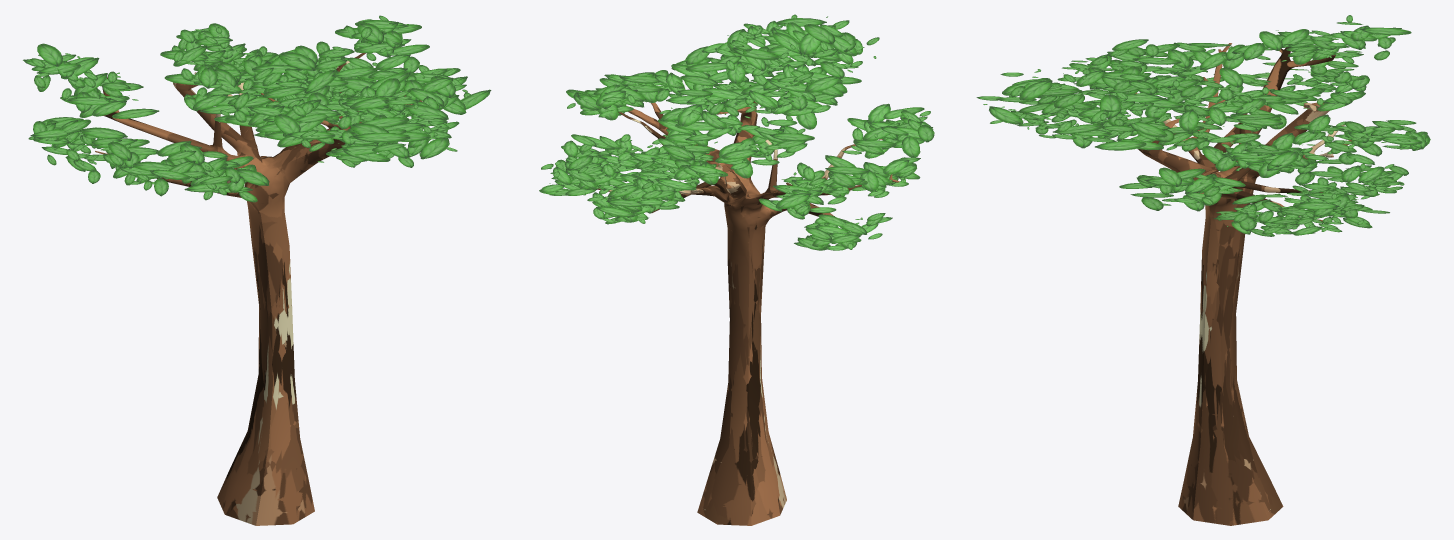
File: PRP_deformedTree1_lowPoly_V01.fbx
3 renders of one model, left to right at view 1: azimuth 30°, elevation 25°; view 2: azimuth 150°, elevation 25°; view 3: azimuth 270°, elevation 25°, orthographic. The views are drawn at different scales.
Visible parts, largest first — view 1: PRP_tree_lowPoly_geo; view 2: PRP_tree_lowPoly_geo; view 3: PRP_tree_lowPoly_geo.
Part boxes in pixels (x1,y1,x2,y2): PRP_tree_lowPoly_geo: [23, 15, 491, 525]; PRP_tree_lowPoly_geo: [539, 14, 934, 525]; PRP_tree_lowPoly_geo: [976, 15, 1430, 525].
Size of the model in its own units: 2.59 by 2.82 by 2.8.
